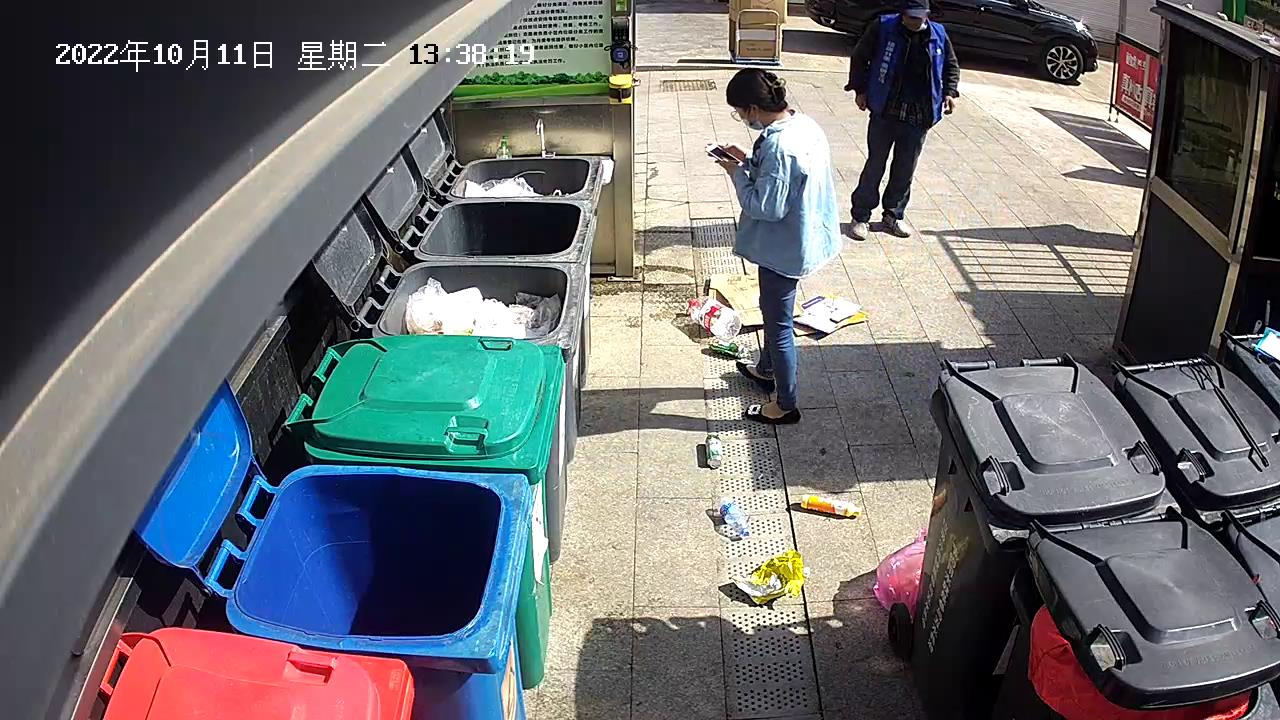garbage: (725, 547, 812, 608)
garbage-bag: (867, 519, 931, 618)
lvzhipin: (702, 332, 751, 361), (697, 429, 728, 473)
suliaozhipin: (684, 292, 747, 344), (794, 491, 863, 521), (717, 496, 757, 540)
worker: (697, 62, 846, 432), (838, 1, 965, 246)
zhizhipin: (702, 268, 808, 327), (788, 287, 875, 340)
